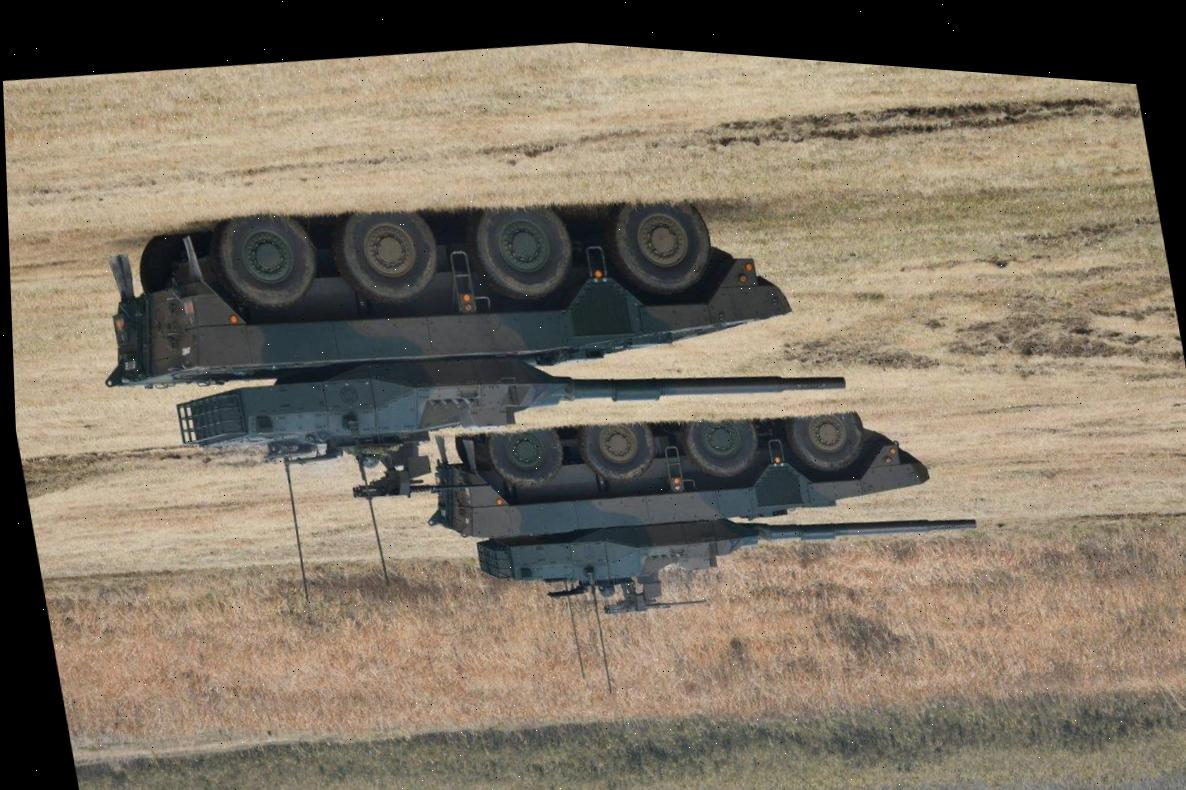sau: (73, 120, 864, 570), (403, 357, 993, 668)
